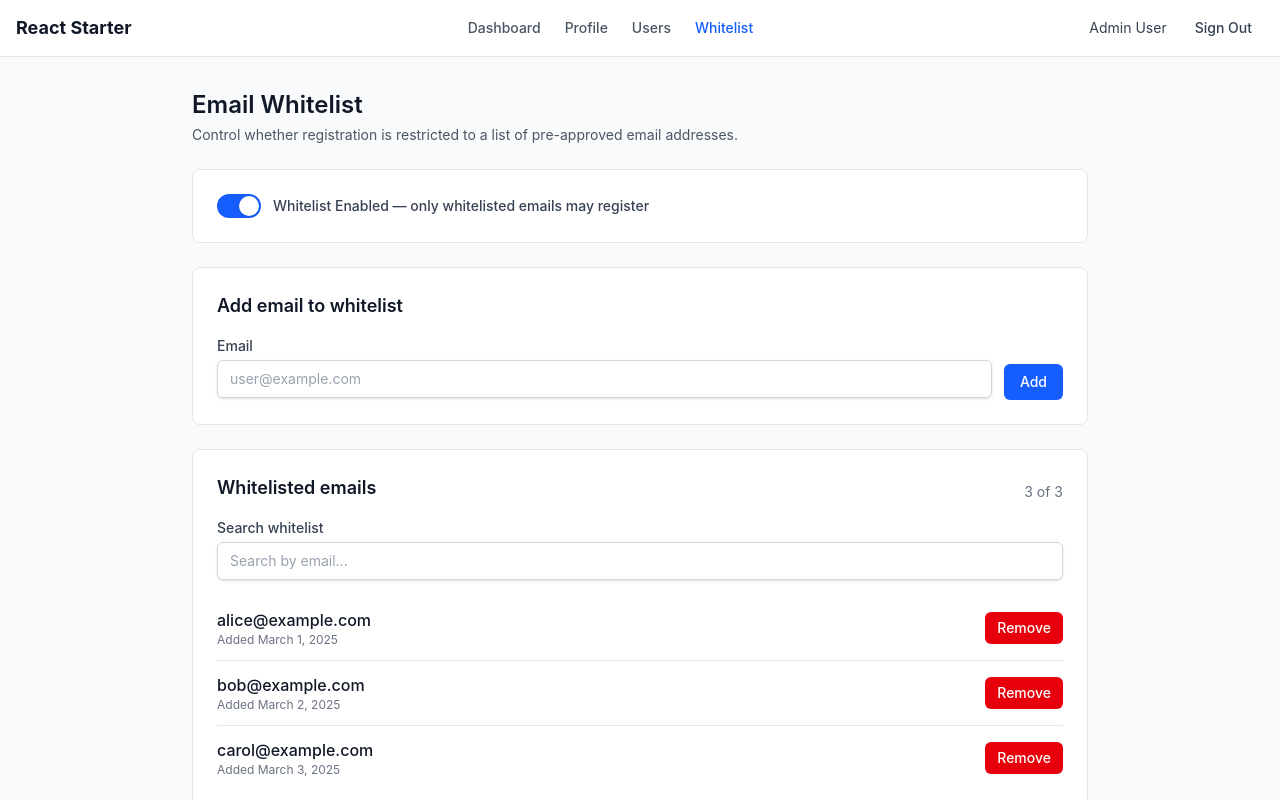
Test: WhitelistPage › adds a valid email and shows it in the list
Check: the text "alice@example.com" is shown, box [217, 608, 371, 632]
Type "dan@example.com" into the field labelled "Email".
click(604, 379); type("dan@example.com")  # box [217, 360, 992, 398]
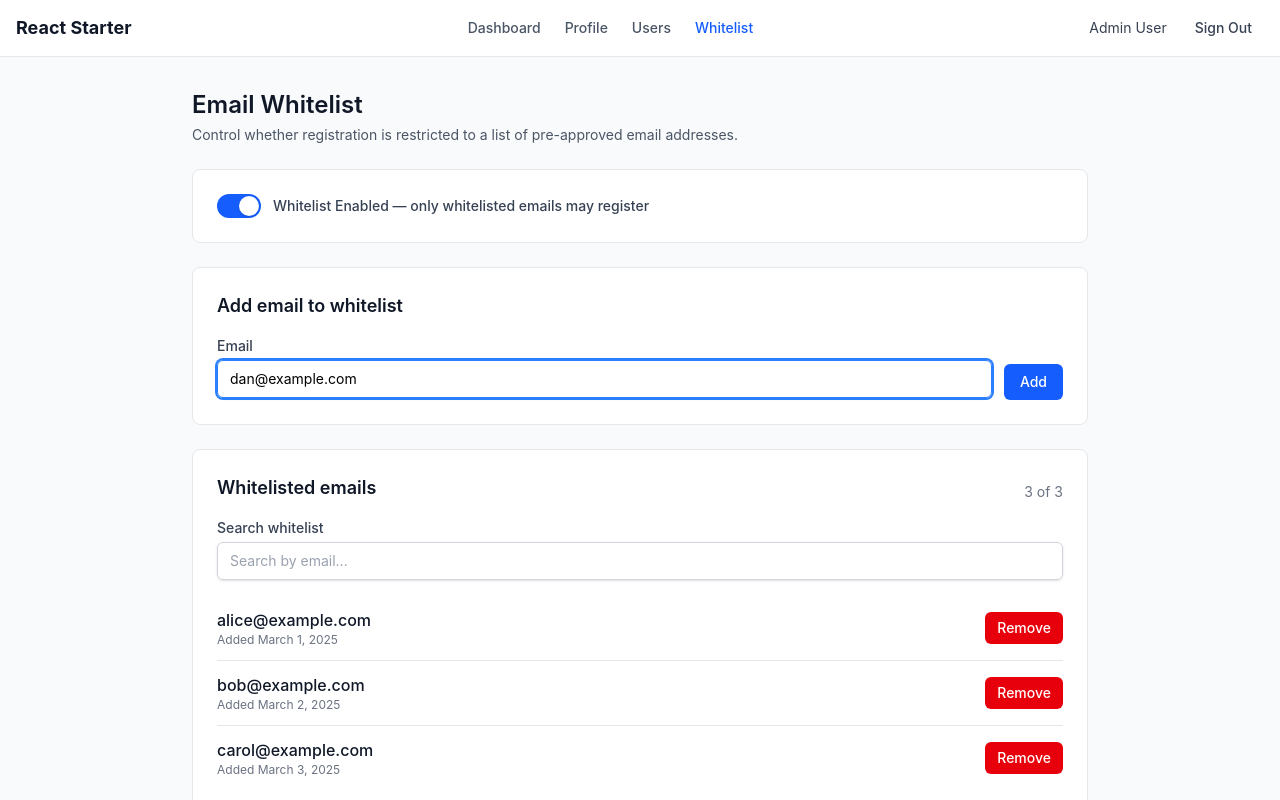
Click the button "Add".
click(1033, 382)  # box [1004, 364, 1063, 400]
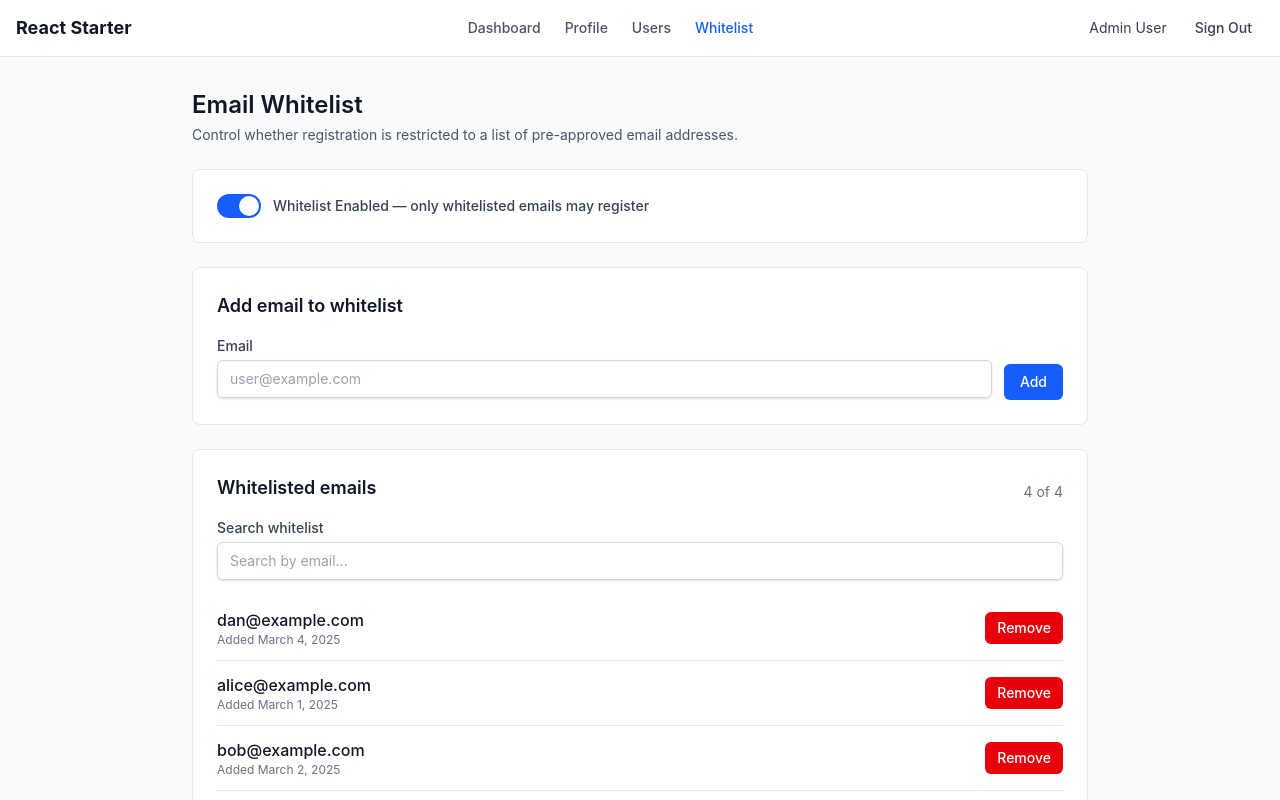
Check: the text "dan@example.com" is shown, box [217, 608, 364, 632]
